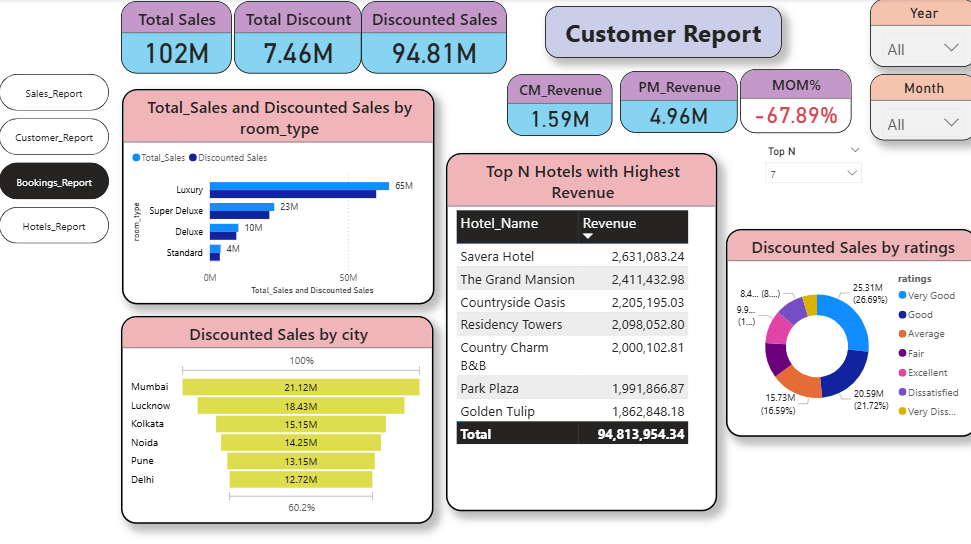

The page's visual inventory and layout, read from the dashboard file:
{"tool":"powerbi","page":{"name":"Customer_Report","canvas":[1280,720],"ordinal":1},"visuals":[{"type":"card","title":"Total Sales","fields":{"Values":["All_Measures.Total_Sales"]},"box":[159.1,3.2,144.7,95.4],"z":0},{"type":"card","title":"Total Discount","fields":{"Values":["All_Measures.Total_Discount"]},"box":[307,3.2,167,95.4],"z":1000},{"type":"card","title":"Discounted Sales","fields":{"Values":["All_Measures.Discounted Sales"]},"box":[474,3.2,190.9,95.4],"z":2000},{"type":"slicer","title":"Year","fields":{"Values":["Date.Date.Variation.Date Hierarchy.Year"]},"box":[1140.5,0,140,89.1],"z":3000},{"type":"slicer","title":"Month","fields":{"Values":["Date.Date.Variation.Date Hierarchy.Month"]},"box":[1140.5,98.6,140,87.5],"z":4000},{"type":"card","title":"CM_Revenue","fields":{"Values":["All_Measures.CM_Revenue"]},"box":[664.9,98.6,138.4,81.1],"z":5000},{"type":"card","title":"PM_Revenue","fields":{"Values":["All_Measures.PM_Revenue"]},"box":[812.8,93.8,154.3,81.1],"z":6000},{"type":"card","title":"MOM%","fields":{"Values":["All_Measures.MOM%"]},"box":[970.3,92.3,146.3,84.3],"z":7000},{"type":"clusteredBarChart","fields":{"Category":["bookings.room_type"],"Y":["All_Measures.Total_Sales","All_Measures.Discounted Sales"]},"box":[160.7,117.7,408.8,281.5],"z":8000},{"type":"funnel","fields":{"Category":["hotels.city"],"Y":["All_Measures.Discounted Sales"]},"box":[159.1,415.1,408.8,272],"z":9000},{"type":"tableEx","title":"Top N Hotels with Highest Revenue","fields":{"Values":["hotels.Hotel_Name","All_Measures.Rank_Revenue_wrt_Hotels"]},"box":[585.3,202,354.7,469.2],"z":10000},{"type":"slicer","fields":{"Values":["Top N.Top N"]},"box":[994.1,186.1,146.3,76.3],"z":11000},{"type":"donutChart","fields":{"Category":["ratings.ratings"],"Y":["All_Measures.Discounted Sales"]},"box":[951.2,300.6,329.3,272],"z":12000},{"type":"textbox","box":[714.2,9.5,310.2,68.4],"z":13000},{"type":"pageNavigator","box":[0,98.6,144.7,225.9],"z":14000}]}

Visuals, with their boxes in screenshot pixels (x1, y1, x2, y2), scaled from the page's 1280x720 canvas onto the 971x544 screenshot:
"Total Sales" card: rect(121, 2, 230, 74)
"Total Discount" card: rect(233, 2, 360, 74)
"Discounted Sales" card: rect(360, 2, 504, 74)
"Year" slicer: rect(865, 0, 970, 67)
"Month" slicer: rect(865, 74, 970, 141)
"CM_Revenue" card: rect(504, 74, 609, 136)
"PM_Revenue" card: rect(617, 71, 734, 132)
"MOM%" card: rect(736, 70, 847, 133)
clusteredBarChart - bookings.room_type x All_Measures.Total_Sales: rect(122, 89, 432, 302)
funnel - hotels.city x All_Measures.Discounted Sales: rect(121, 314, 431, 519)
"Top N Hotels with Highest Revenue" tableEx: rect(444, 153, 713, 507)
slicer - Top N.Top N: rect(754, 141, 865, 198)
donutChart - ratings.ratings x All_Measures.Discounted Sales: rect(722, 227, 970, 433)
textbox: rect(542, 7, 777, 59)
pageNavigator: rect(0, 74, 110, 245)
